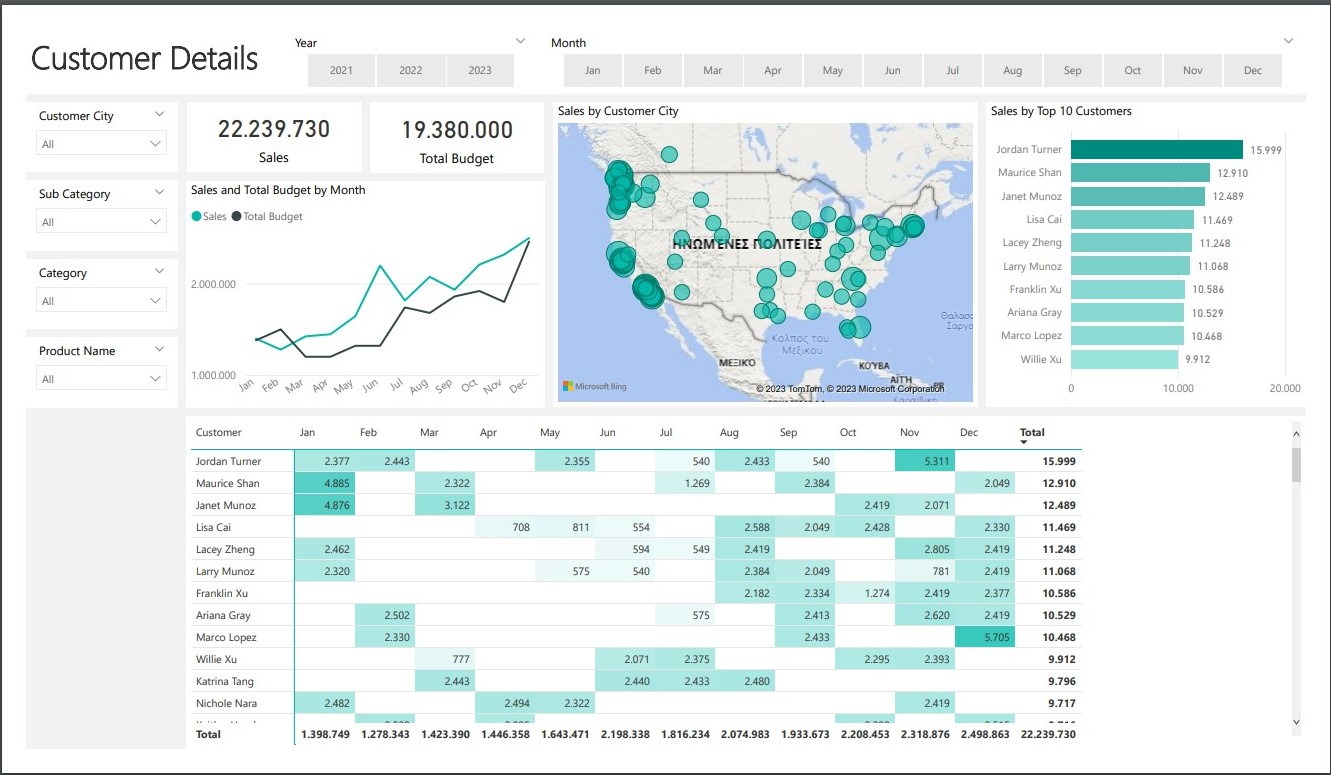

What the dashboard file says about the page in this screenshot:
{"tool":"powerbi","page":{"name":"Customer Details","canvas":[1280,720],"ordinal":1},"visuals":[{"type":"textbox","box":[0,0,1280,64],"z":0},{"type":"slicer","fields":{"Values":["DIM_Calendar.Year"]},"box":[256,0,256,64],"z":1000},{"type":"slicer","fields":{"Values":["DIM_Calendar.MonthShort"]},"box":[512,0,768,64],"z":2000},{"type":"slicer","fields":{"Values":["DIM_Customers.Customer City"]},"box":[0,73,150.5,69.3],"z":3000},{"type":"slicer","fields":{"Values":["DIM_Products.Product Category"]},"box":[0,229.9,150.5,69.3],"z":4000},{"type":"slicer","fields":{"Values":["DIM_Products.Product Name"]},"box":[0,308.4,150.5,69.3],"z":5000},{"type":"slicer","fields":{"Values":["DIM_Products.Sub Category"]},"box":[0,151.4,150.5,69.3],"z":6000},{"type":"lineChart","fields":{"Category":["DIM_Calendar.MonthShort"],"Y":["Key_Measures.Sales","Key_Measures.Total Budget"]},"box":[159.8,151.8,358.7,226.4],"z":7000},{"type":"card","fields":{"Values":["Key_Measures.Sales"]},"box":[160.7,72.8,174,69.2],"z":8000},{"type":"map","fields":{"Category":["DIM_Customers.Customer City"],"Size":["Key_Measures.Sales"]},"box":[527.3,72.8,423.5,304.5],"z":9000},{"type":"card","fields":{"Values":["Key_Measures.Total Budget"]},"box":[343.6,72.8,174.9,70.1],"z":10000},{"type":"pivotTable","fields":{"Rows":["DIM_Customers.Full Name"],"Columns":["DIM_Calendar.MonthShort"],"Values":["Key_Measures.Sales"]},"box":[159.8,387.1,1120.4,332.9],"z":11000},{"type":"barChart","title":"Sales by Top 10 Customers","fields":{"Y":["Key_Measures.Sales"],"Category":["DIM_Customers.Full Name"]},"box":[959.7,72.8,320.5,304.5],"z":12000}]}

Visuals, with their boxes on the page's 1280x720 design canvas (x1, y1, x2, y2). These are canvas units, not pixel positions in the 1331x775 screenshot, which may show the page scaled, cropped or inside an application window:
textbox: bbox(0, 0, 1280, 64)
slicer - DIM_Calendar.Year: bbox(256, 0, 512, 64)
slicer - DIM_Calendar.MonthShort: bbox(512, 0, 1280, 64)
slicer - DIM_Customers.Customer City: bbox(0, 73, 150, 142)
slicer - DIM_Products.Product Category: bbox(0, 230, 150, 299)
slicer - DIM_Products.Product Name: bbox(0, 308, 150, 378)
slicer - DIM_Products.Sub Category: bbox(0, 151, 150, 221)
lineChart - DIM_Calendar.MonthShort x Key_Measures.Sales: bbox(160, 152, 518, 378)
card - Key_Measures.Sales: bbox(161, 73, 335, 142)
map - DIM_Customers.Customer City x Key_Measures.Sales: bbox(527, 73, 951, 377)
card - Key_Measures.Total Budget: bbox(344, 73, 518, 143)
pivotTable - DIM_Customers.Full Name x DIM_Calendar.MonthShort: bbox(160, 387, 1280, 720)
"Sales by Top 10 Customers" barChart: bbox(960, 73, 1280, 377)
